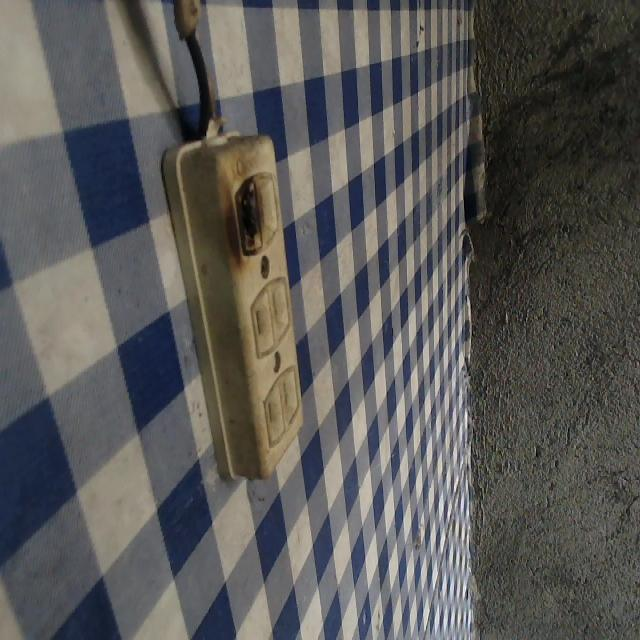-: (223, 172, 271, 259)
